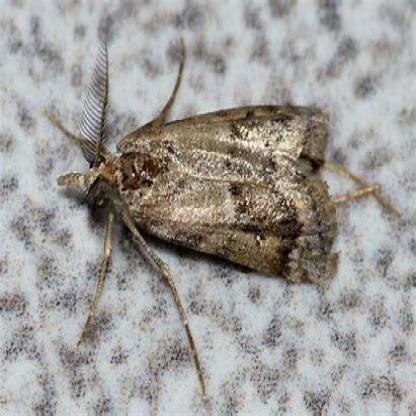Hellula undalis: (41, 16, 412, 406)
